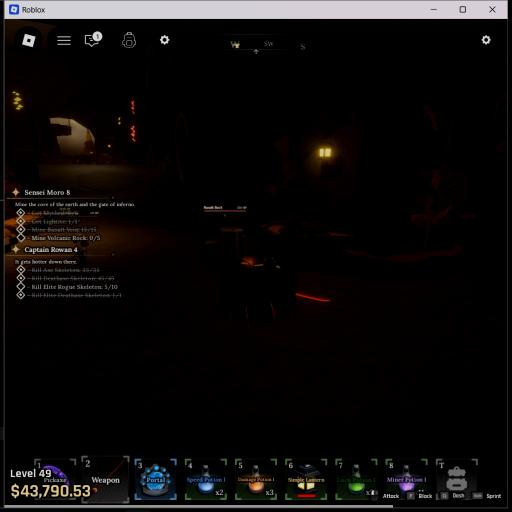player: (219, 248, 297, 323)
rock: (202, 227, 246, 267), (101, 153, 109, 163)
